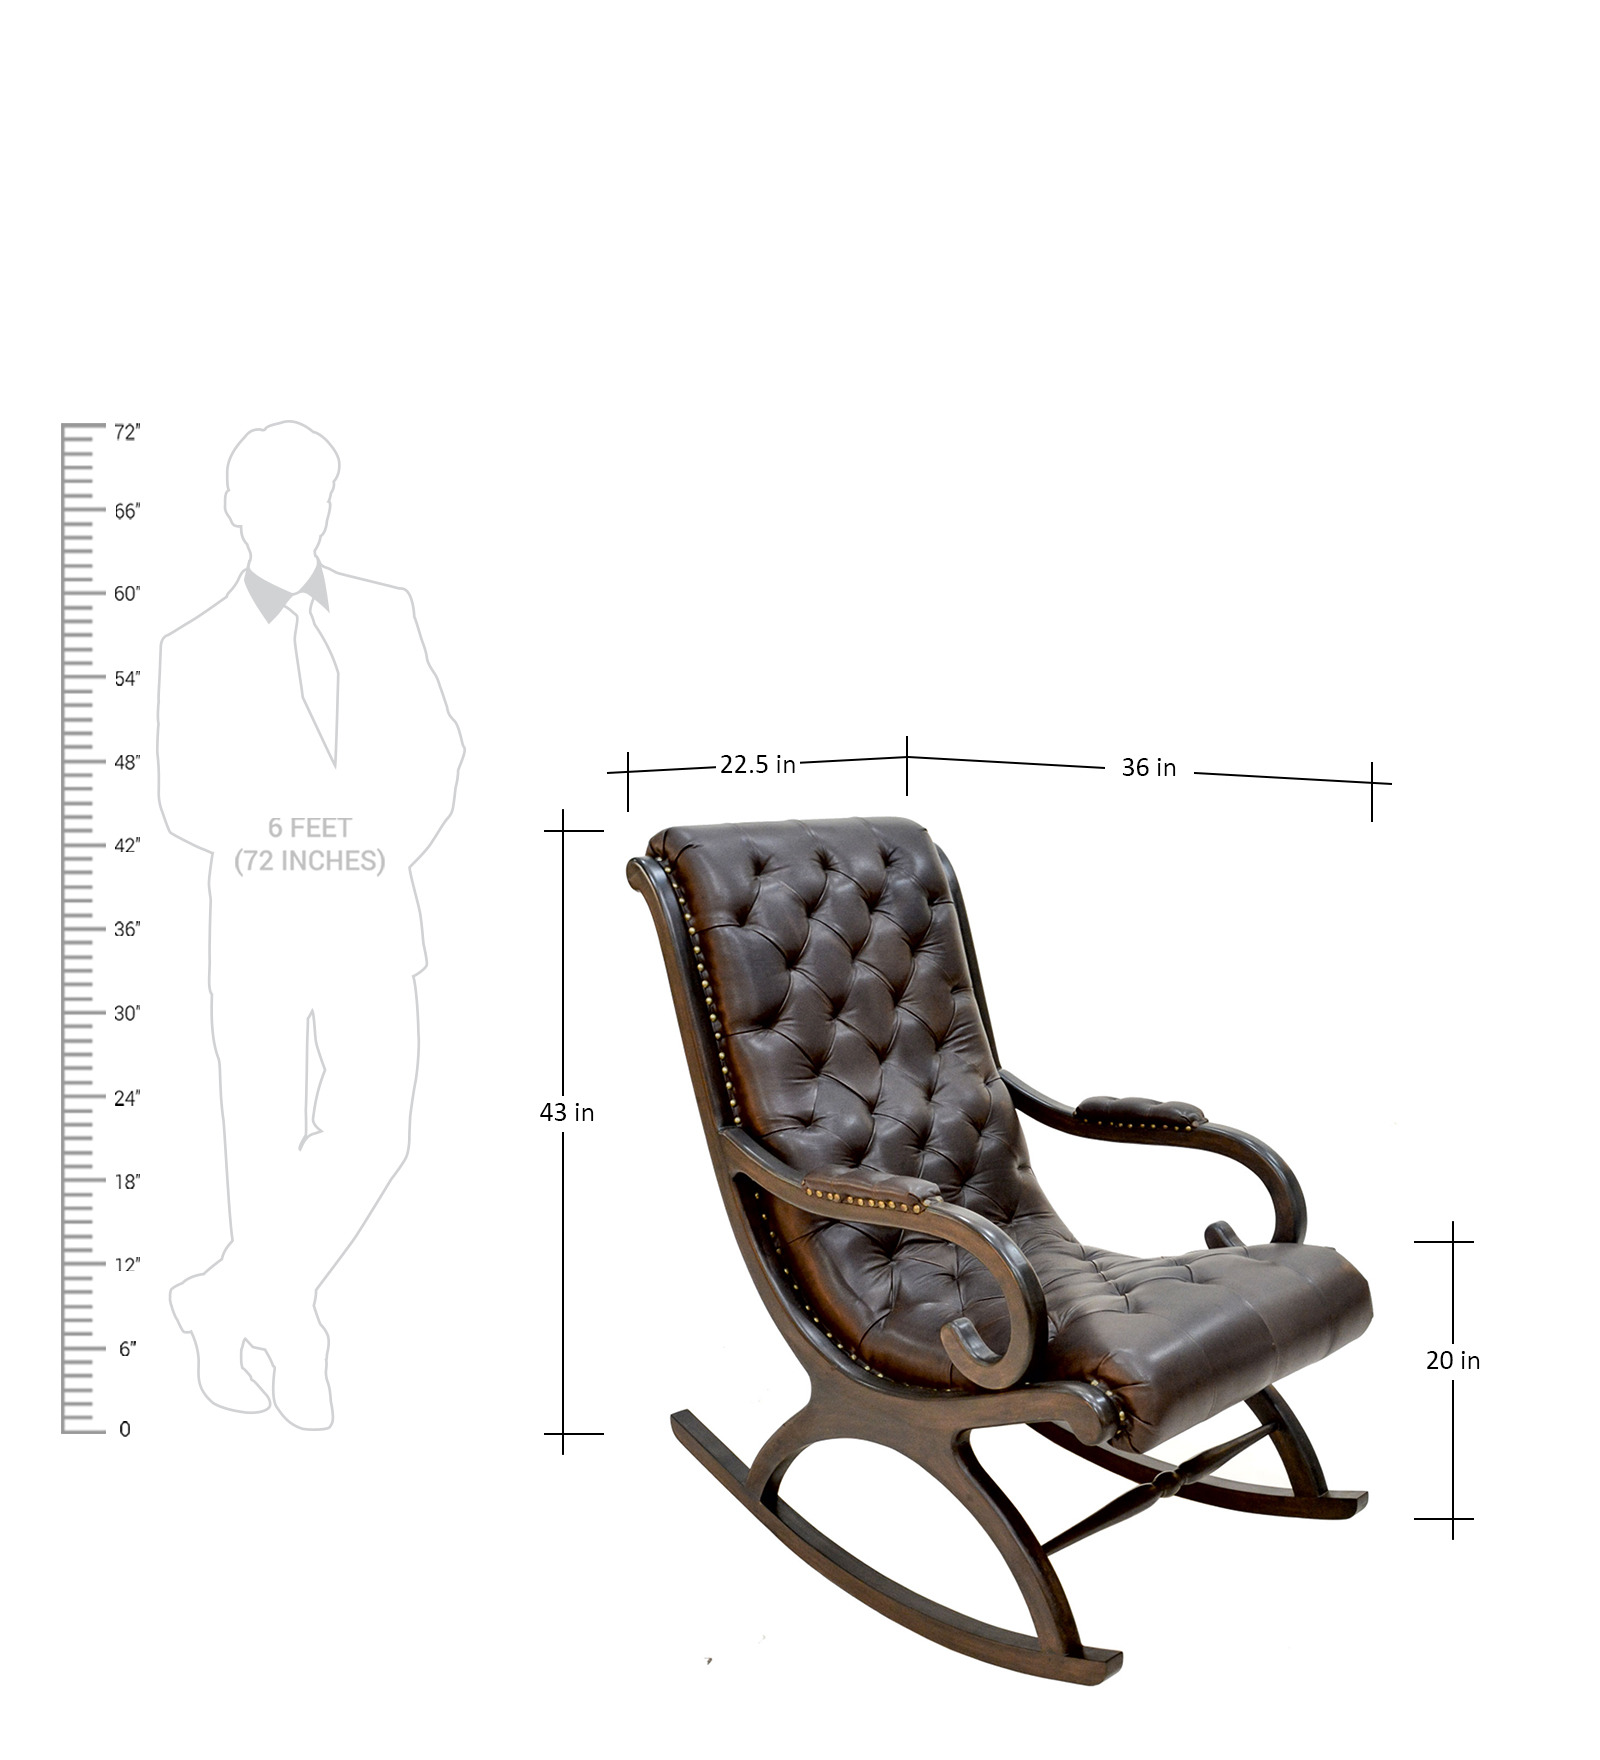Rapheal Rocking Chair in Dark Brown Pure Italian Leather by INDOORS: (611, 813, 1408, 1703)
